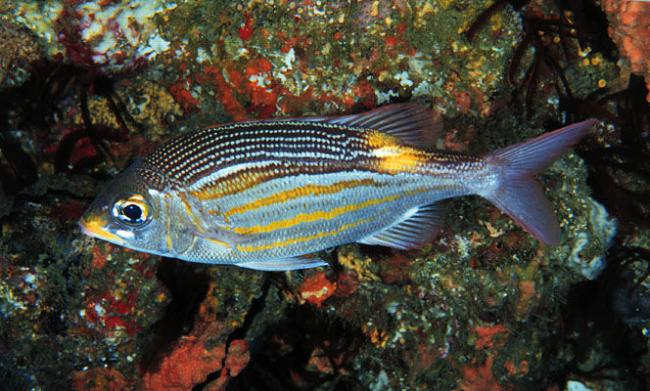fish: (79, 101, 599, 271)
